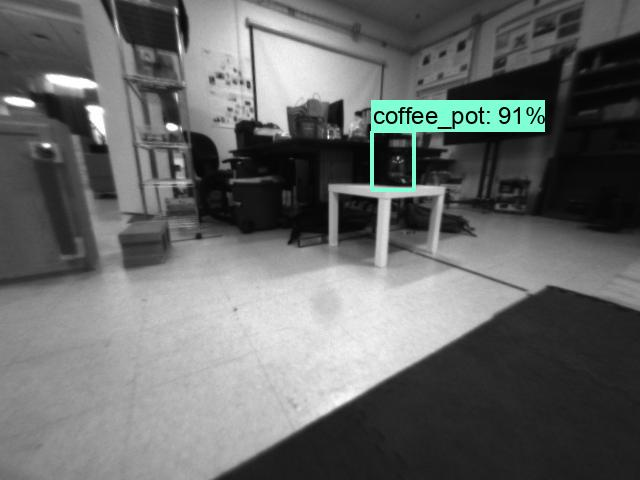coffee_pot: (379, 131, 417, 188)
